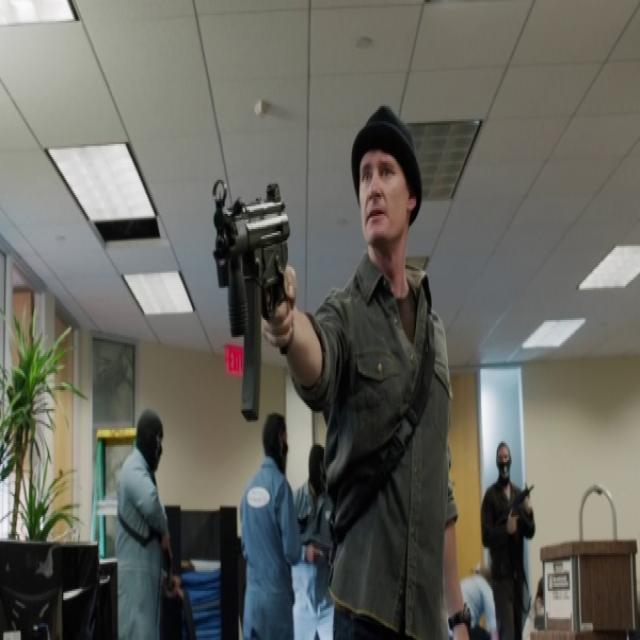rifle: (212, 155, 294, 430)
